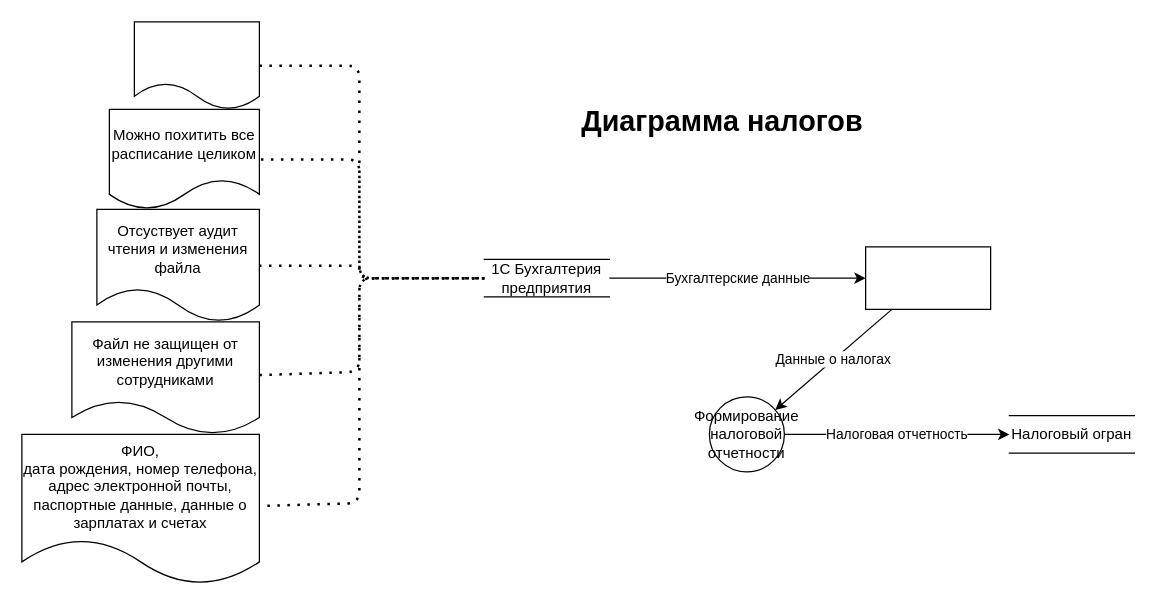
Some shapes in this 1156 by 606 pixel diagram are drawn without their labels. The centre of each missing label's shape, as x and y in pixels:
"Бухгалтер" belongs at point (927, 277).
"Файл хранит перс.данные в открытом виде" belongs at point (196, 65).
